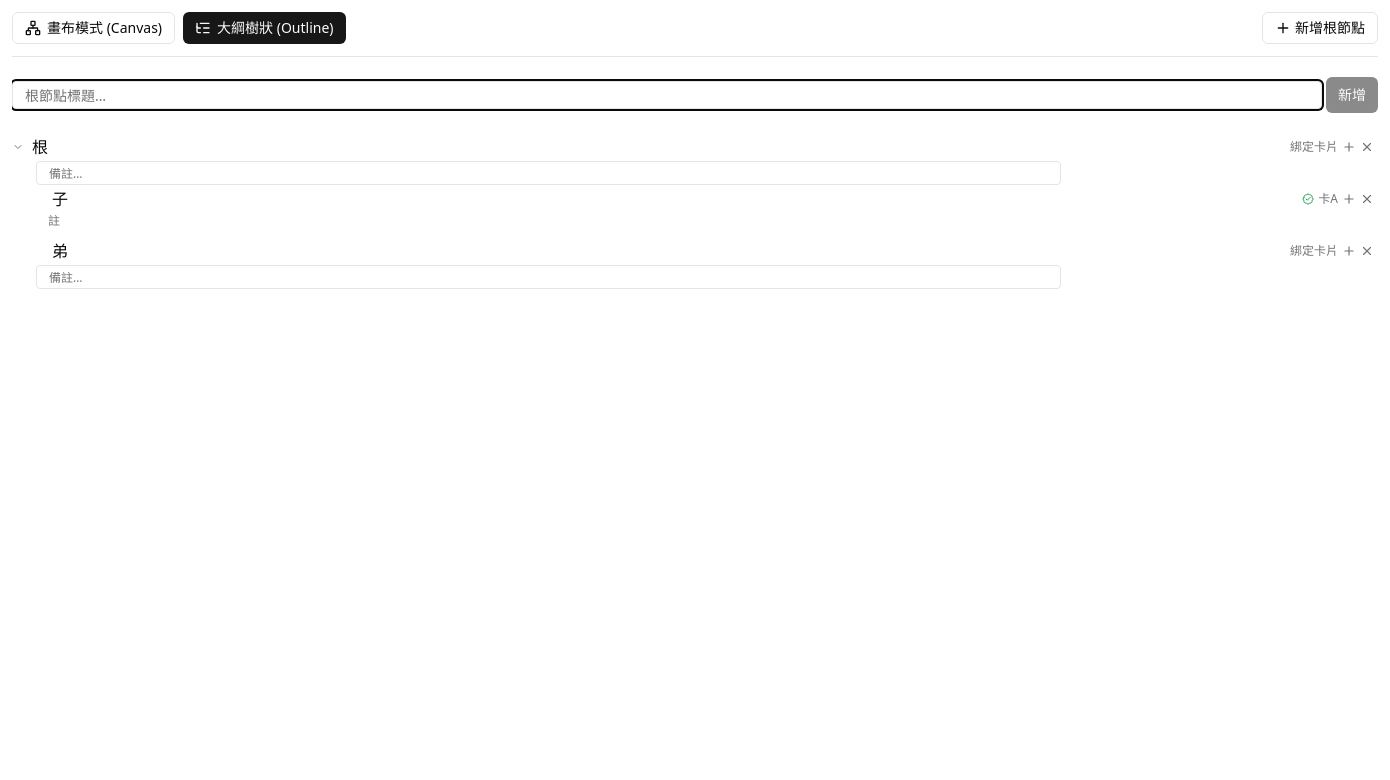
Test case: 心智圖的審查狀態圖示（大綱列＋畫布節點） › card.reviewState=approved 時圖示的無障礙名稱是 審查狀態：通過
Click the button "畫布模式 (Canvas)".
click(94, 28)  # box [12,12,175,44]
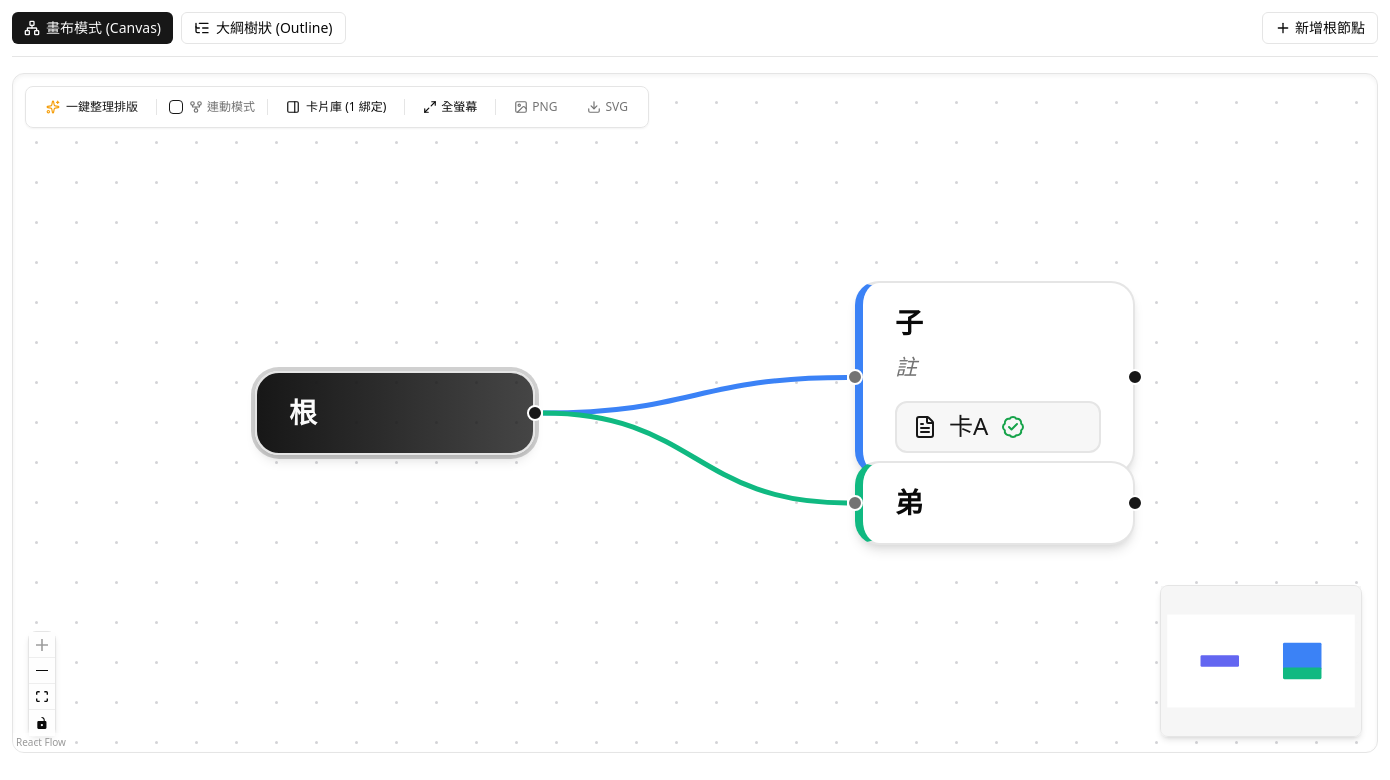
expect the element named "審查狀態：通過" is shown: met, box [895,400,1101,452]
expect the icon named "審查狀態：通過" is shown: met, box [1000,414,1024,438]
